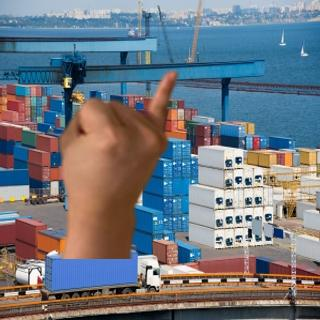FINE: (48, 67, 182, 222)
